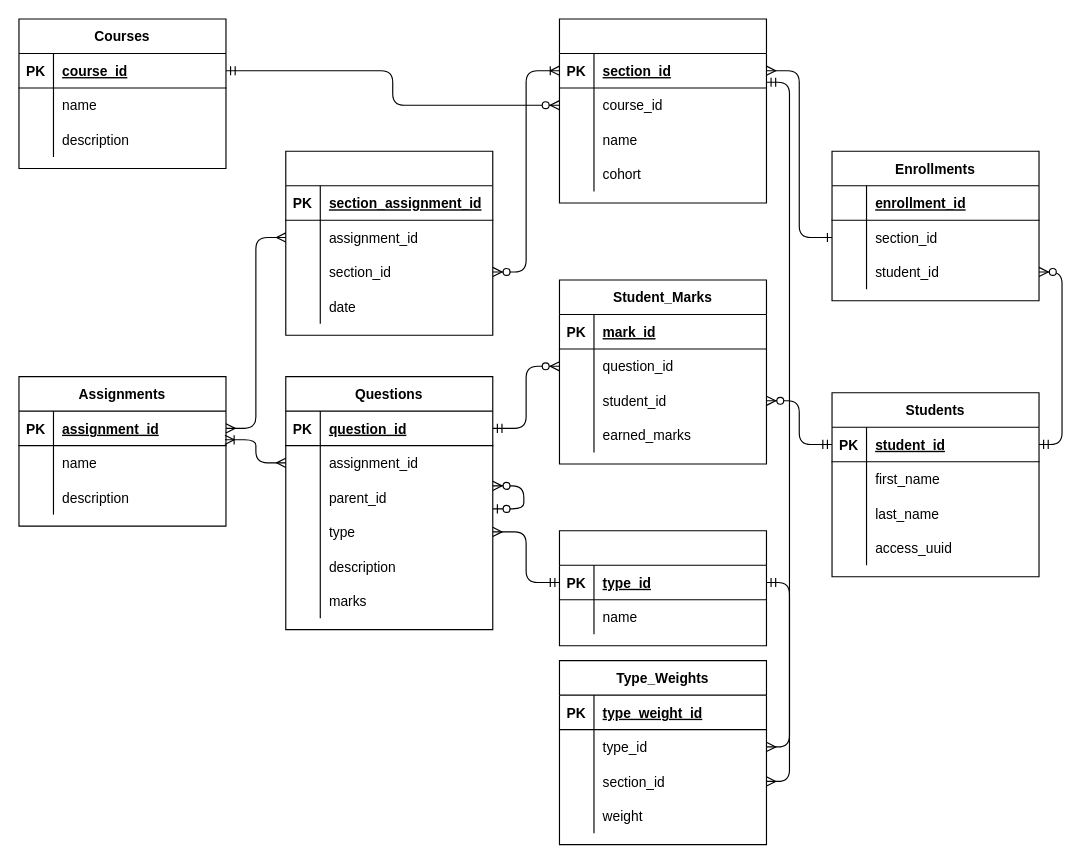
Image size: 1081x864. Some labels were removed from this diagram. Here are the shapes that lost their labels. From the top down, the box of each, then its label:
(558, 18, 766, 203): Sections
(285, 150, 493, 335): Section_Assignments
(558, 530, 766, 646): Types
